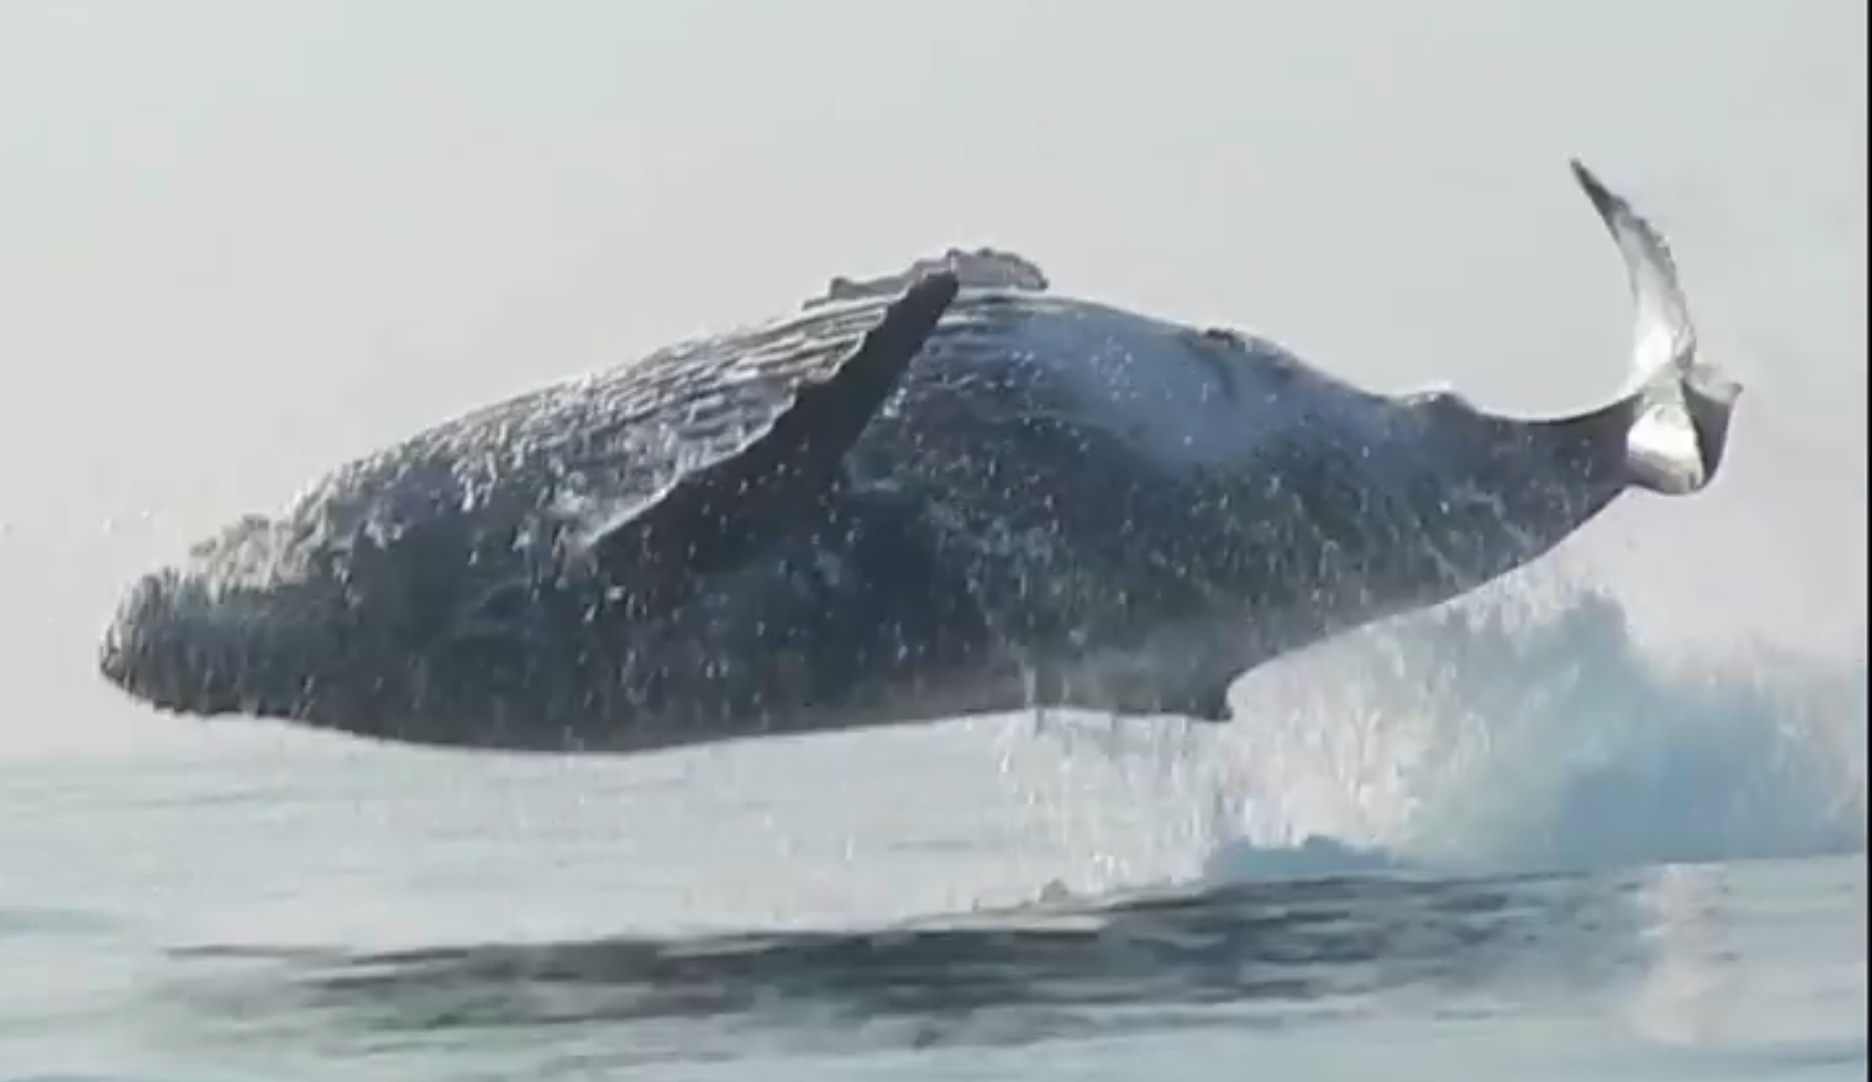humpback: (88, 317, 1743, 728)
